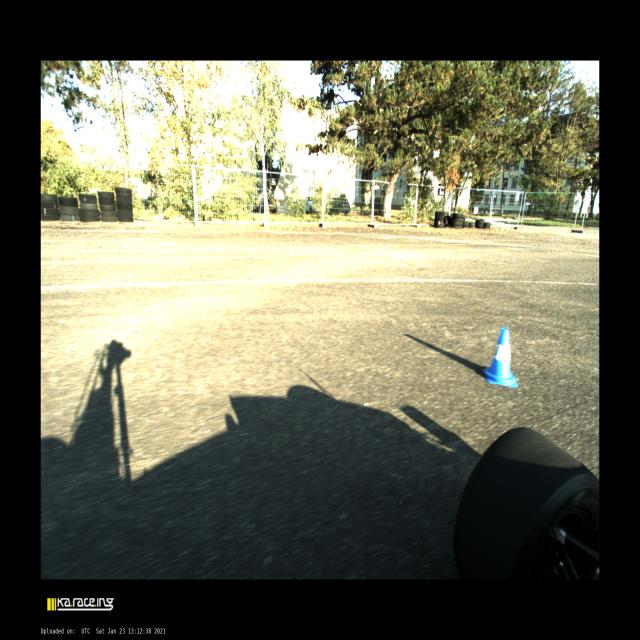blue_cone: (482, 329, 518, 387)
